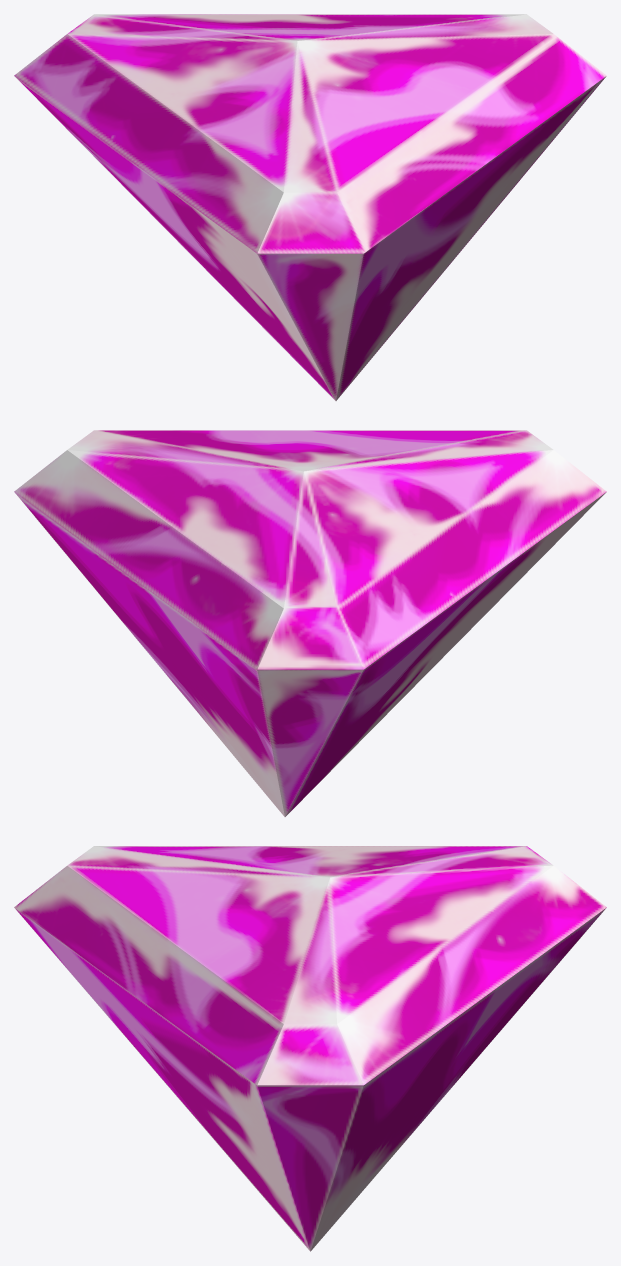
The model's file is stone_pink_001.fbx.
3 views of the same model, one above another, from view 1: azimuth 30°, elevation 25°; view 2: azimuth 150°, elevation 25°; view 3: azimuth 270°, elevation 25° (orthographic).
Visible parts, largest first — view 1: stone; view 2: stone; view 3: stone.
Boxes of the visible parts, <box> form: stone: <box>14,14,606,400</box>; stone: <box>14,430,606,816</box>; stone: <box>14,846,606,1251</box>.
Bounding box in the file's own units: 5.67 × 4.39 × 6.55.
